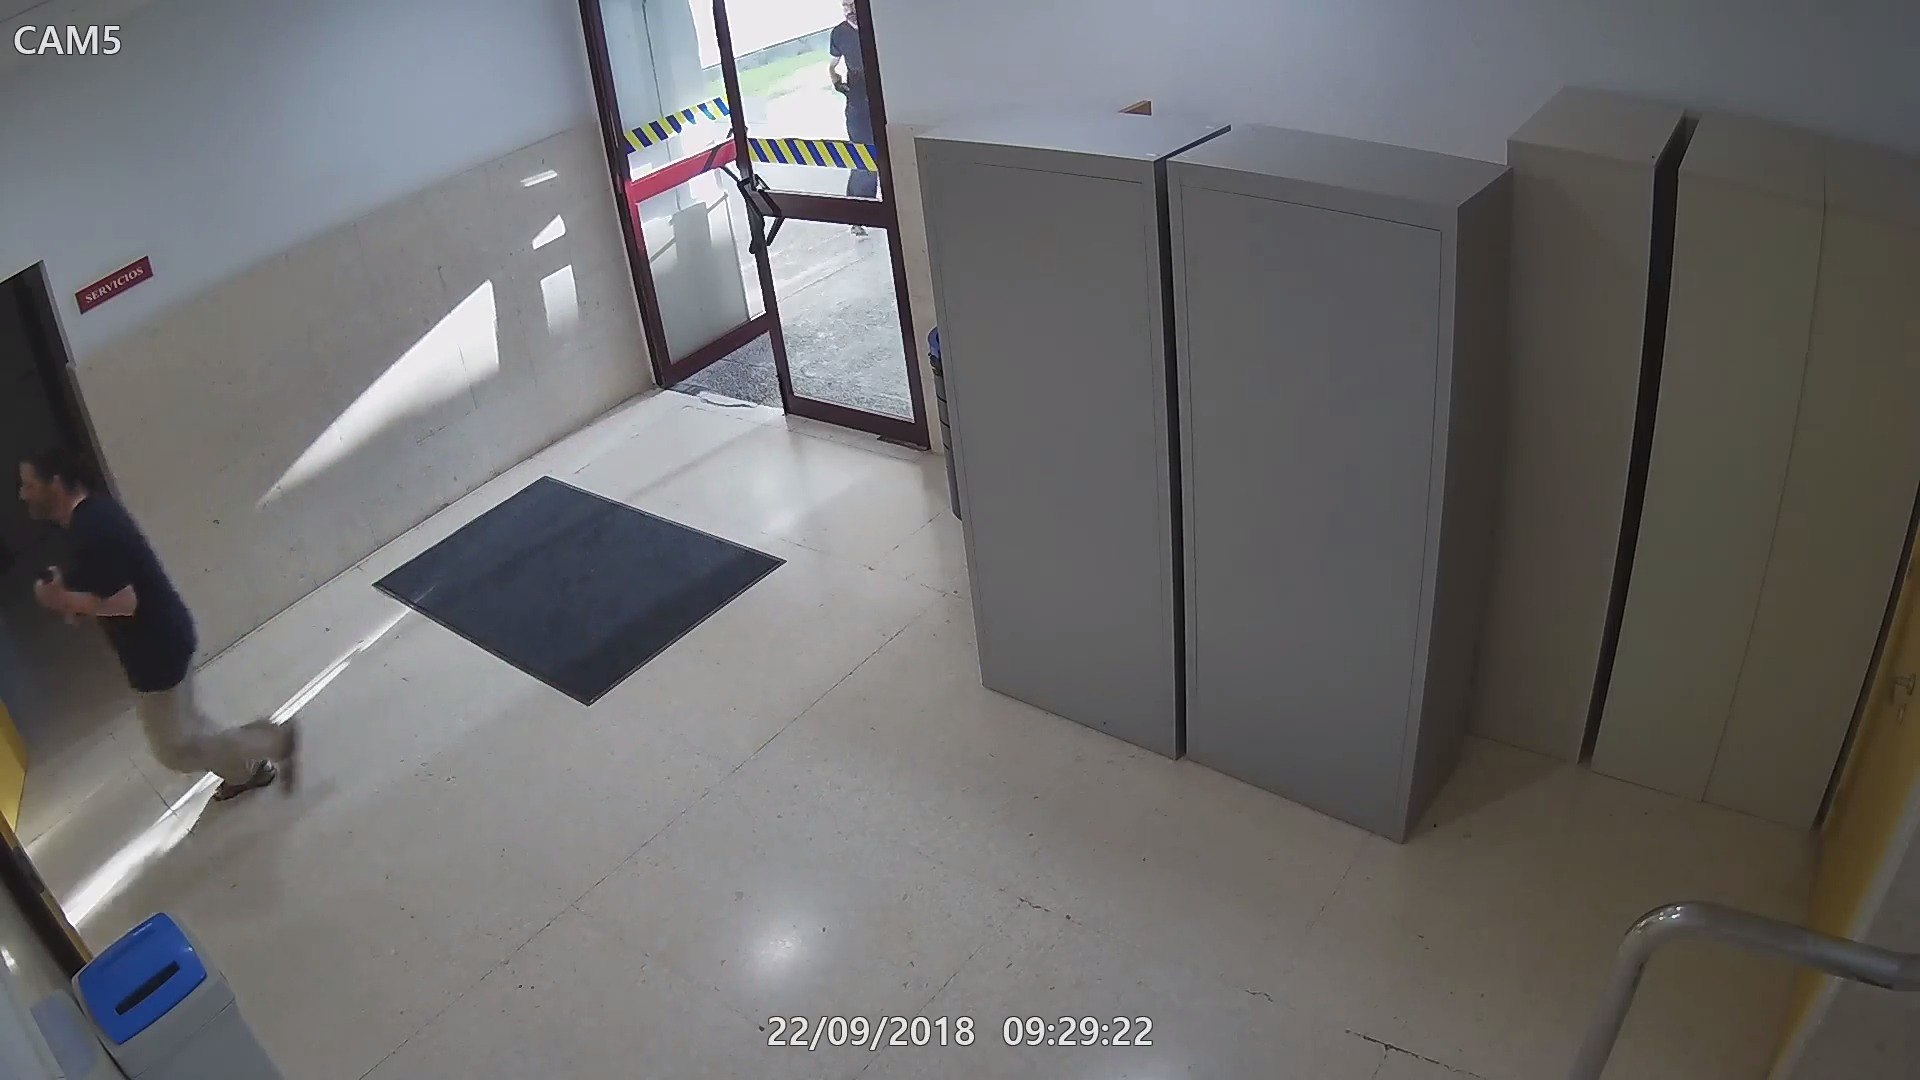Short_rifle: (11, 549, 84, 637)
